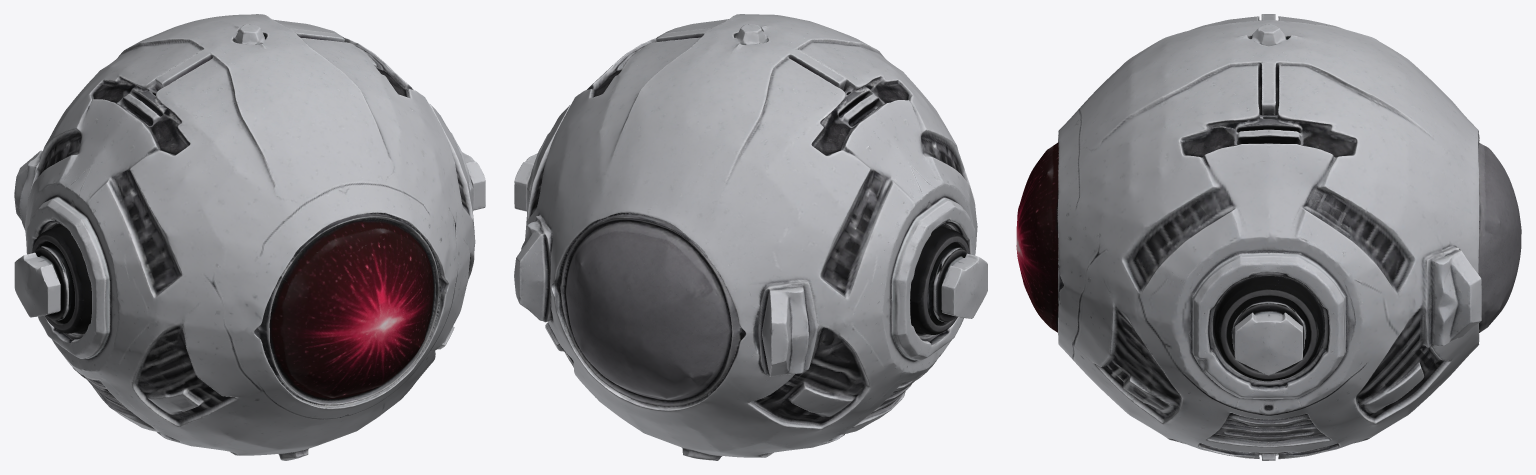
File: Meshy_AI_Spotter_Drone_20261110_texture.fbx
3 renders of one model, left to right at view 1: azimuth 30°, elevation 25°; view 2: azimuth 150°, elevation 25°; view 3: azimuth 270°, elevation 25°, orthographic.
Parts seen in each view (by area): view 1: Mesh_0; view 2: Mesh_0; view 3: Mesh_0.
Part boxes in pixels (box(x1,y1,x2,y2)): Mesh_0: box(14, 14, 485, 460); Mesh_0: box(514, 14, 987, 460); Mesh_0: box(1016, 14, 1521, 460).
Bounding box in the file's own units: 190 × 165 × 184.
Materials: 1 (1 with a texture image).
